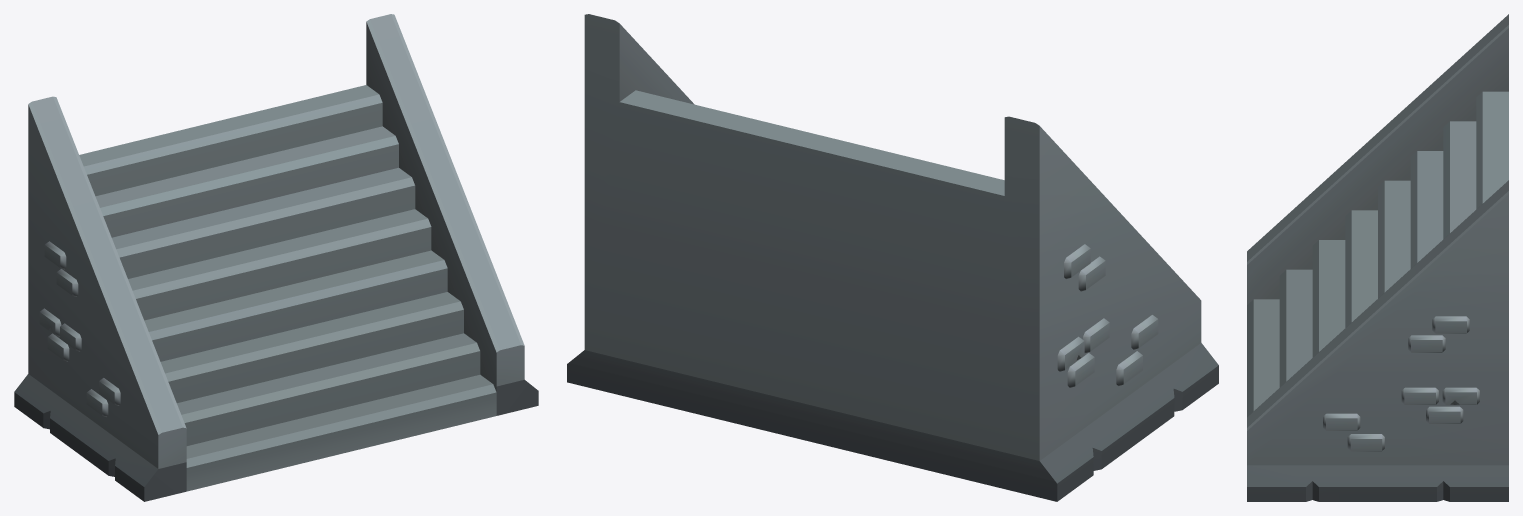
Rendered from stairs_wide.glb.
3 renders of one model, left to right at view 1: azimuth 30°, elevation 25°; view 2: azimuth 150°, elevation 25°; view 3: azimuth 270°, elevation 25°, orthographic. The views are drawn at different scales.
Parts seen in each view (by area): view 1: stairs_wide; view 2: stairs_wide; view 3: stairs_wide.
Part boxes in pixels (box(x1,y1,x2,y2)): stairs_wide: box(14, 14, 538, 501); stairs_wide: box(567, 14, 1218, 501); stairs_wide: box(1247, 14, 1508, 501).
Size of the model in its own units: 7 by 5.1 by 4.
1 material, 1 textured.
